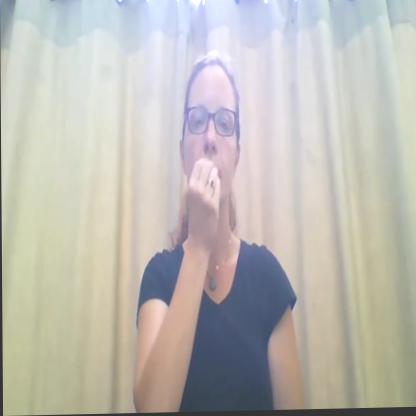Food: (146, 37, 267, 290)
